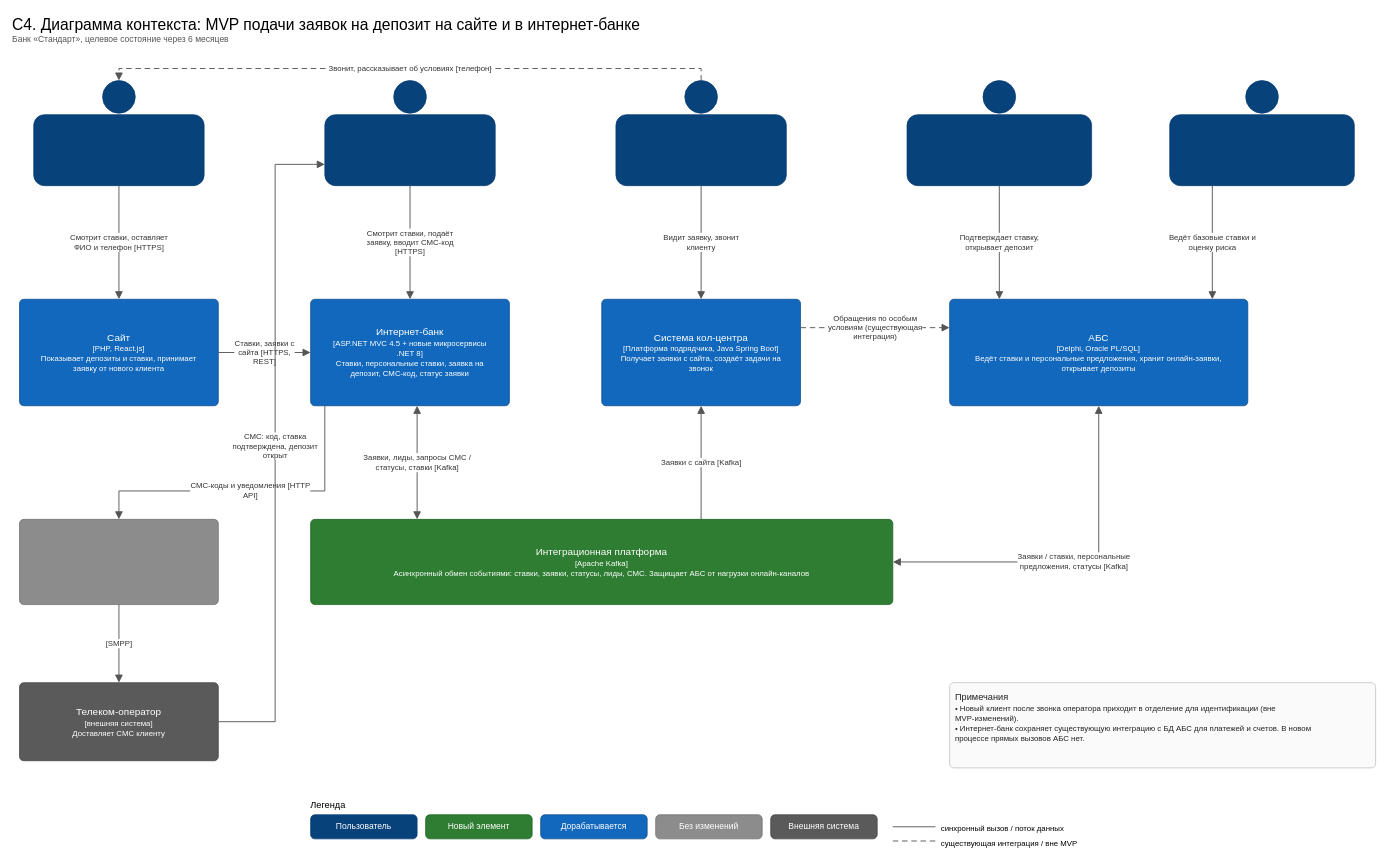
Image size: 1388x861. Some labels were removed from this diagram. Here are the shapes that lost their labels. From the top down, the centre of each, then its label:
At pixel 118 150: "Потенциальный клиент Новый клиент банка, посетитель сайта".
At pixel 409 150: "Клиент банка Пользователь интернет-банка".
At pixel 700 150: "Оператор кол-центра Обрабатывает заявки с сайта".
At pixel 999 150: "Менеджер бэк-офиса депозитов Обрабатывает заявки, подтверждает ставку".
At pixel 1261 150: "Сотрудник бэк-офиса кредитов Ведёт параметры риска для ставок".
At pixel 118 562: "СМС-шлюз [сопровождает IT-отдел банка] Отправляет СМС через телеком-оператора".
